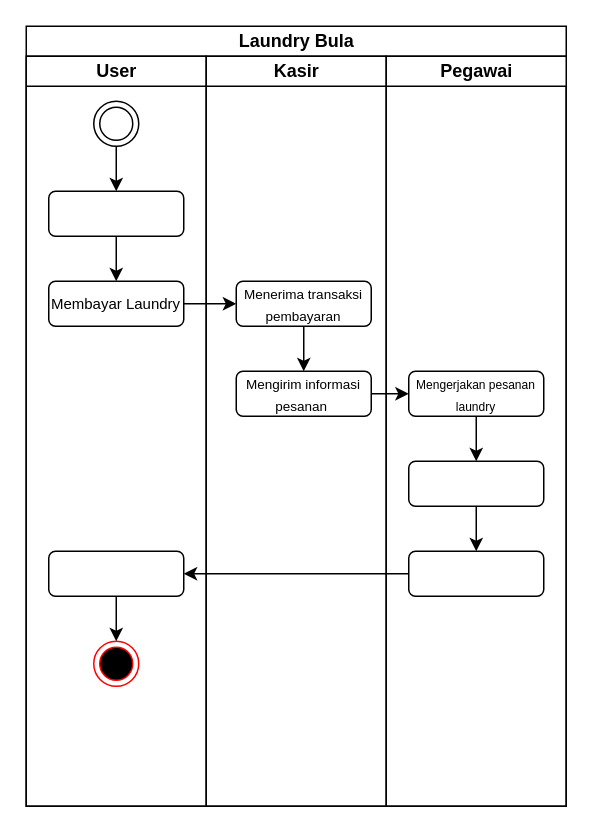
This 593x833 diagram has some shape labels left out. The centre of each missing label's shape, as x and y in pixels:
"Membuat pesanan laundry" goes at point (115, 213).
"Menerima status pesanan laundry" goes at point (115, 573).
"Mengirim status pesanan laundry" goes at point (475, 573).
"Mengubah status pesanan laundry" goes at point (475, 483).
